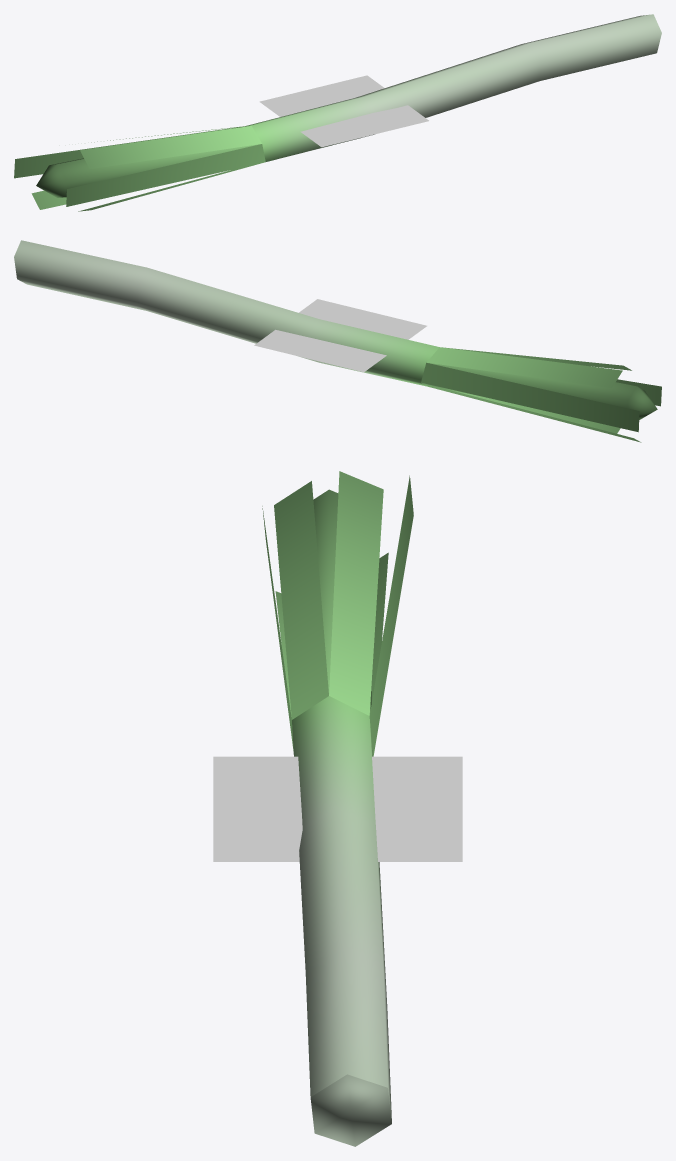
File: consumables-vegetables-leek_v1.glb
3 renders of one model, top to bottom at view 1: azimuth 30°, elevation 25°; view 2: azimuth 150°, elevation 25°; view 3: azimuth 270°, elevation 25°, orthographic. The views are drawn at different scales.
Visible parts, largest first — view 1: Leek_v1; view 2: Leek_v1; view 3: Leek_v1.
Boxes of the visible parts, x1,y1,x2,y2 form: Leek_v1: (14, 14, 661, 211); Leek_v1: (14, 240, 661, 442); Leek_v1: (213, 471, 462, 1146).
Bounding box in the file's own units: 0.3516 × 0.0364 × 0.061.
